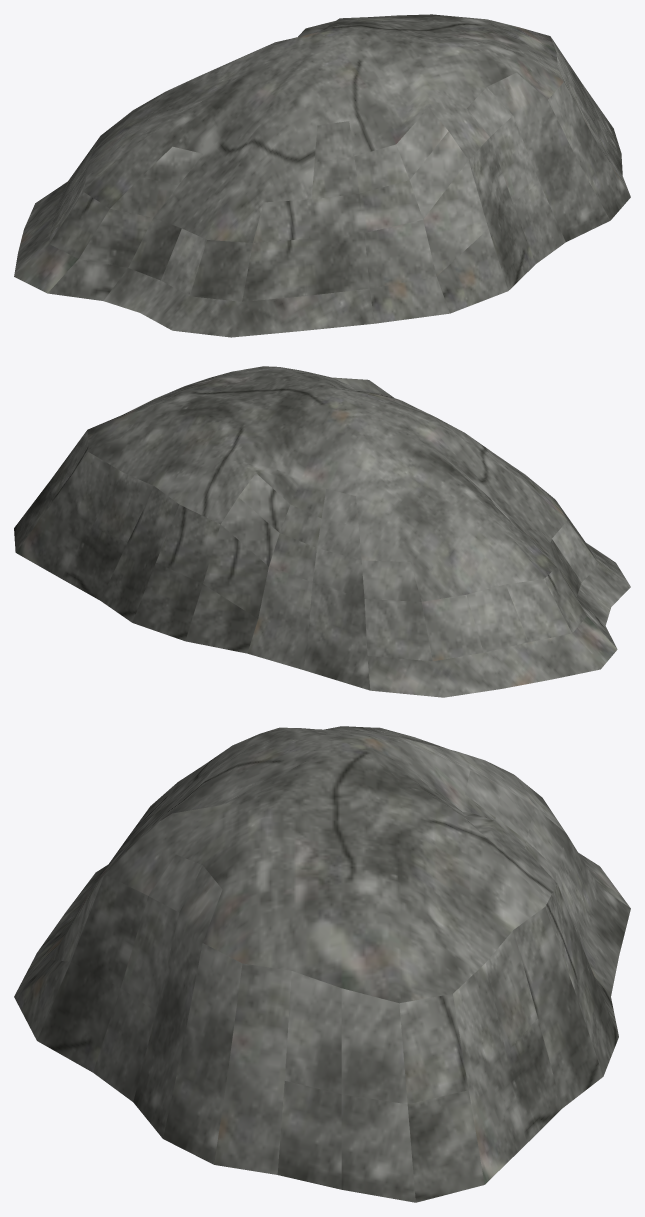
File: nyc_rock_hump.glb
The picture shows the model from 3 angles, top to bottom: view 1: azimuth 30°, elevation 25°; view 2: azimuth 150°, elevation 25°; view 3: azimuth 270°, elevation 25°; orthographic projection. The views are drawn at different scales.
Visible parts, largest first — view 1: nyc_rock_hump; view 2: nyc_rock_hump; view 3: nyc_rock_hump.
Part boxes in pixels (x1,y1,x2,y2): nyc_rock_hump: (14,14,630,337); nyc_rock_hump: (14,366,630,697); nyc_rock_hump: (14,726,630,1202).
Size of the model in its own units: 9.44 by 2.84 by 6.2.
Materials: 1 (1 with a texture image).
